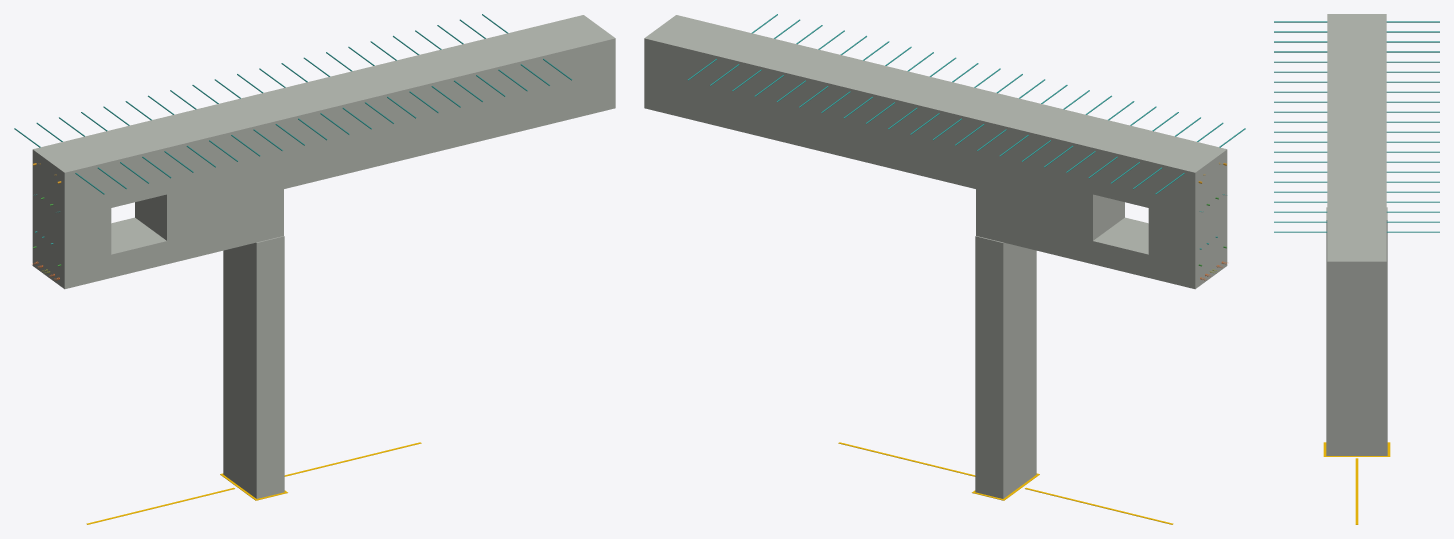
File: unterzug-441-vorortg12.glb
3 renders of one model, left to right at view 1: azimuth 30°, elevation 25°; view 2: azimuth 150°, elevation 25°; view 3: azimuth 270°, elevation 25°, orthographic. The views are drawn at different scales.
Visible parts, largest first — view 1: Beton; view 2: Beton; view 3: Beton, Achslinie_2, Pos_30_geschaetzt_143, Pos_30_geschaetzt_144, Pos_30_geschaetzt_145, Pos_30_geschaetzt_146, Pos_30_geschaetzt_147, Pos_30_geschaetzt_148, Pos_30_geschaetzt_149, Pos_30_geschaetzt_150, Pos_30_geschaetzt_151, Pos_30_geschaetzt_152 (+12 smaller).
Part boxes in pixels (x1,y1,x2,y2): Beton: (32,15,615,498); Beton: (644,15,1227,498); Beton: (1326,14,1387,455); Achslinie_2: (1355,458,1358,524); Pos_30_geschaetzt_143: (1274,21,1439,22); Pos_30_geschaetzt_144: (1274,31,1439,32); Pos_30_geschaetzt_145: (1274,41,1439,42); Pos_30_geschaetzt_146: (1274,51,1439,52); Pos_30_geschaetzt_147: (1274,61,1439,62); Pos_30_geschaetzt_148: (1274,71,1439,72); Pos_30_geschaetzt_149: (1274,81,1439,82); Pos_30_geschaetzt_150: (1274,91,1439,92); Pos_30_geschaetzt_151: (1274,101,1439,102); Pos_30_geschaetzt_152: (1274,111,1439,112).
Size of the model in its own units: 5.01 by 3.2 by 1.4.
